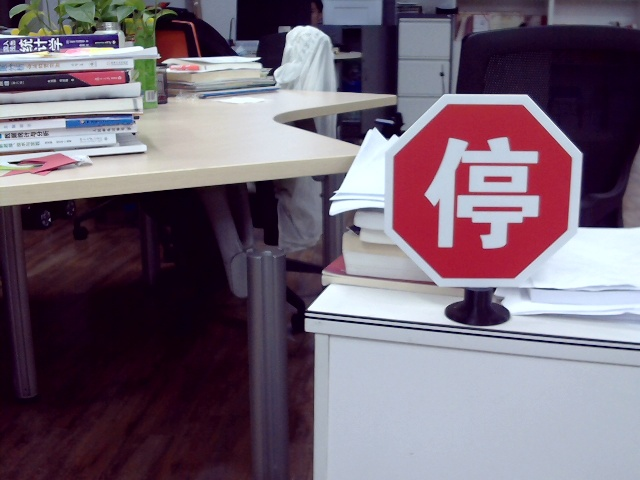stop: (425, 134, 537, 251)
